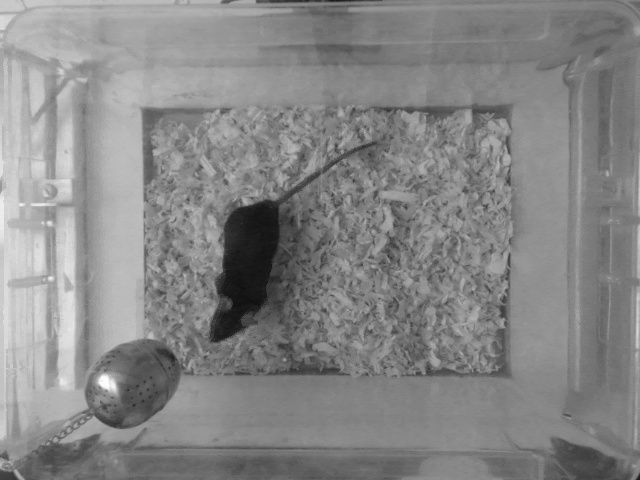mice: (205, 133, 393, 346)
